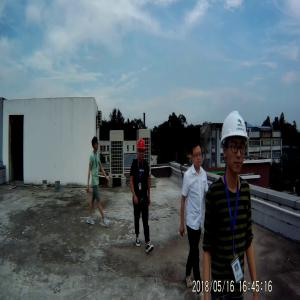none: (191, 142, 203, 170), (92, 137, 101, 154)
red: (138, 138, 148, 162)
white: (220, 110, 251, 181)
